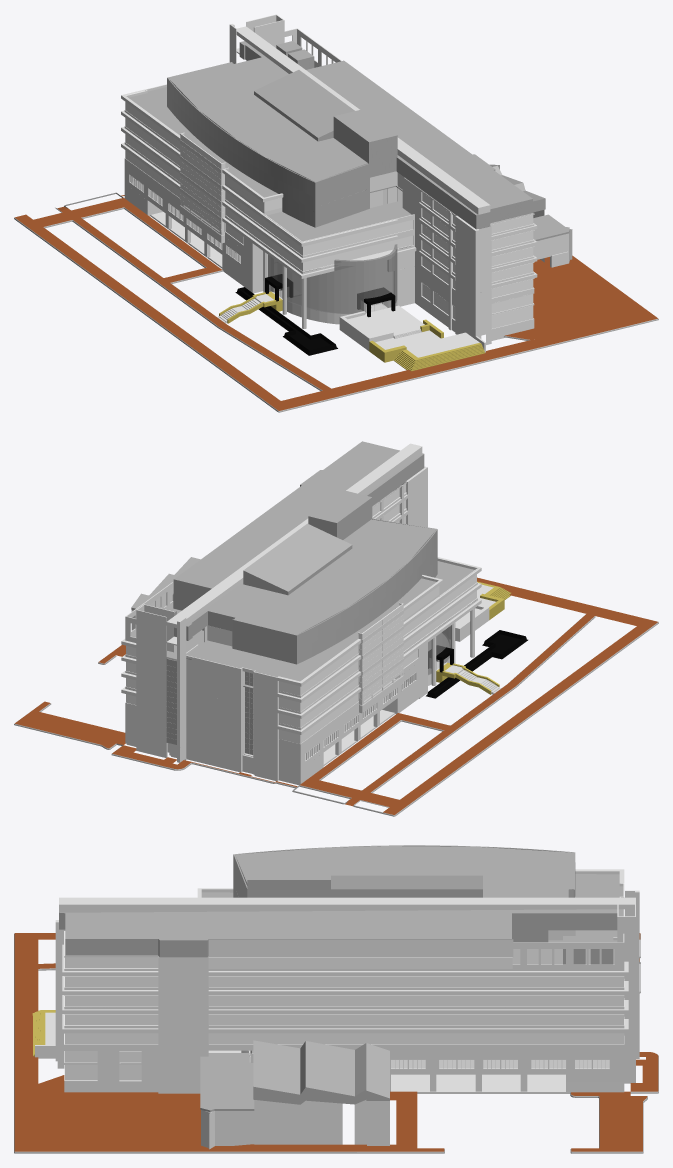
The picture shows the model from 3 angles, top to bottom: view 1: azimuth 30°, elevation 25°; view 2: azimuth 150°, elevation 25°; view 3: azimuth 270°, elevation 25°; orthographic projection. The views are drawn at different scales.
Visible parts, largest first — view 1: floor6f.003, red_brick_B, wall6f.003, arch_wall2.002, wall_flf.010, Cube.002, Plane.103, f1, Plane.096, Cube.049, Cube.004, wall_front (+24 smaller); view 2: floor6f.003, red_brick_B, wall_flf.010, wall6f.003, Cube.002, floor6f.002, Plane.109, Cube.049, wall_flf.006, wall_flf.120, wall6f.004, Cube.004 (+31 smaller); view 3: floor6f.003, red_brick_B, Plane.117, wall_flf.010, wall4f.008, Plane, Plane.096, wall_flf.075, wall1f.123, Plane.125, Cube.002, floor3f.001 (+34 smaller).
Part boxes in pixels (x1=…): floor6f.003: x1=168, y1=41, x2=532, y2=229; red_brick_B: x1=14, y1=195, x2=657, y2=410; wall6f.003: x1=167, y1=62, x2=369, y2=227; arch_wall2.002: x1=263, y1=244, x2=397, y2=313; wall_flf.010: x1=229, y1=14, x2=490, y2=214; Cube.002: x1=254, y1=70, x2=354, y2=141; Plane.103: x1=225, y1=191, x2=413, y2=271; f1: x1=269, y1=245, x2=413, y2=313; Plane.096: x1=490, y1=213, x2=533, y2=328; Cube.049: x1=14, y1=192, x2=658, y2=412; Cube.004: x1=333, y1=109, x2=397, y2=177; wall_front: x1=455, y1=215, x2=479, y2=339; floor6f.003: x1=173, y1=441, x2=436, y2=640; red_brick_B: x1=15, y1=577, x2=657, y2=814; wall_flf.010: x1=136, y1=443, x2=422, y2=662; wall6f.003: x1=232, y1=518, x2=437, y2=664; Cube.002: x1=243, y1=523, x2=352, y2=595; floor6f.002: x1=134, y1=491, x2=437, y2=681; Plane.109: x1=279, y1=645, x2=358, y2=743; Cube.049: x1=14, y1=614, x2=658, y2=816; wall_flf.006: x1=136, y1=651, x2=186, y2=727; wall_flf.120: x1=253, y1=662, x2=419, y2=769; wall6f.004: x1=232, y1=544, x2=437, y2=660; Cube.004: x1=308, y1=490, x2=372, y2=539; floor6f.003: x1=59, y1=846, x2=617, y2=957; red_brick_B: x1=14, y1=933, x2=658, y2=1151; Plane.117: x1=209, y1=976, x2=623, y2=1044; wall_flf.010: x1=59, y1=890, x2=639, y2=964; wall4f.008: x1=208, y1=933, x2=624, y2=970; Plane: x1=253, y1=1040, x2=389, y2=1104; Plane.096: x1=65, y1=955, x2=159, y2=1080; wall_flf.075: x1=390, y1=1050, x2=624, y2=1074; wall1f.123: x1=254, y1=1100, x2=342, y2=1144; Plane.125: x1=209, y1=957, x2=512, y2=968; Cube.002: x1=331, y1=875, x2=482, y2=897; floor3f.001: x1=62, y1=1014, x2=628, y2=1033.
Bounding box in the file's own units: 61.3 × 23.65 × 76.11.
33 materials, 1 textured.
